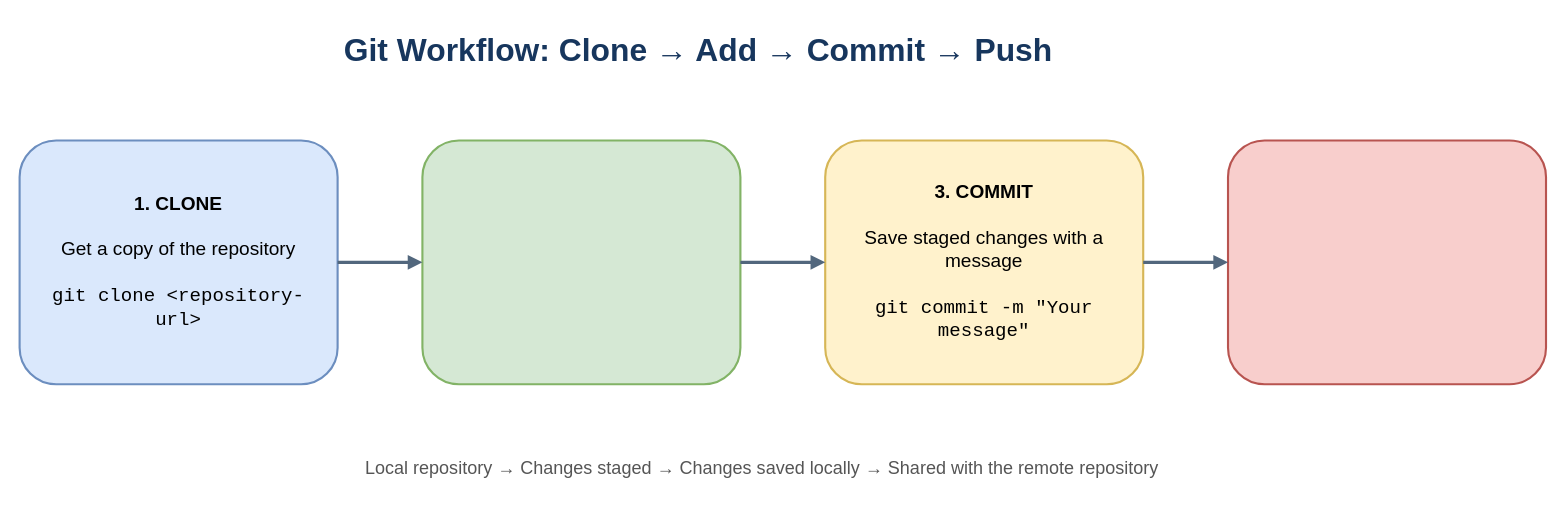
Image size: 1565x513. Some labels were removed from this diagram. Each missing label, with the centre of its shape:
2. ADD Stage your changes git add .: the point at 581,262
4. PUSH Upload commits to the remote repository git push: the point at 1386,262
